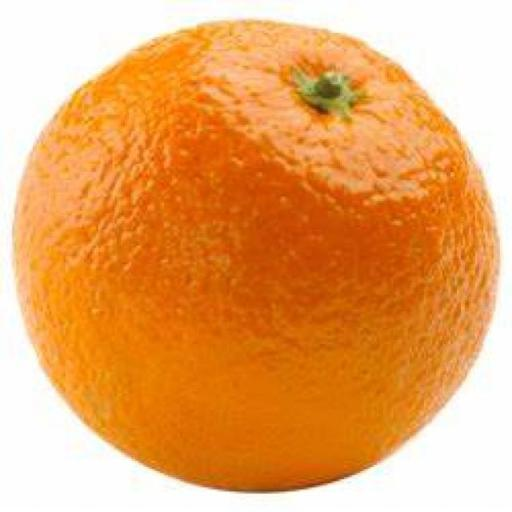fruit: (15, 22, 496, 489)
